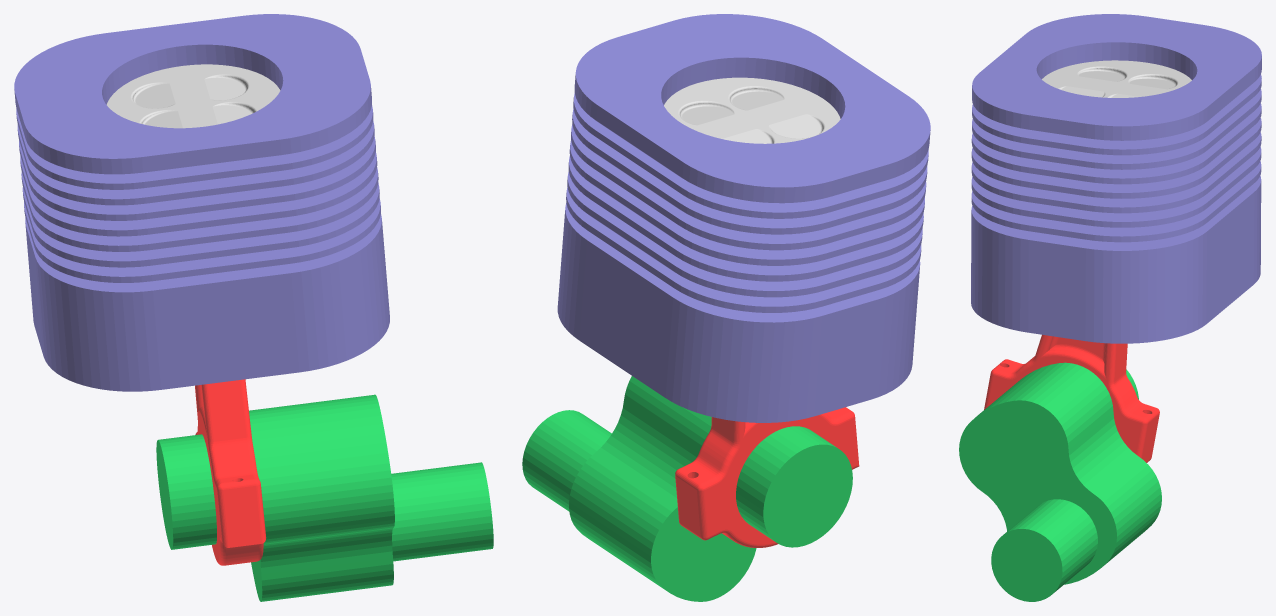
The model's file is piston2.glb.
3 views of the same model, side by side, from view 1: azimuth 30°, elevation 25°; view 2: azimuth 150°, elevation 25°; view 3: azimuth 270°, elevation 25° (orthographic). The views are drawn at different scales.
Parts seen in each view (by area): view 1: motor_assembly_COMPLETE; view 2: motor_assembly_COMPLETE; view 3: motor_assembly_COMPLETE.
Part boxes in pixels (box(x1,y1,x2,y2)): motor_assembly_COMPLETE: box(14, 14, 493, 601); motor_assembly_COMPLETE: box(522, 14, 930, 601); motor_assembly_COMPLETE: box(959, 14, 1261, 601).
Size of the model in its own units: 275 by 333 by 196.
